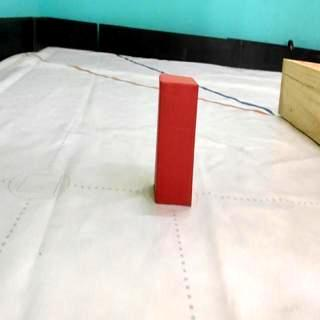redbox: (153, 72, 200, 208)
